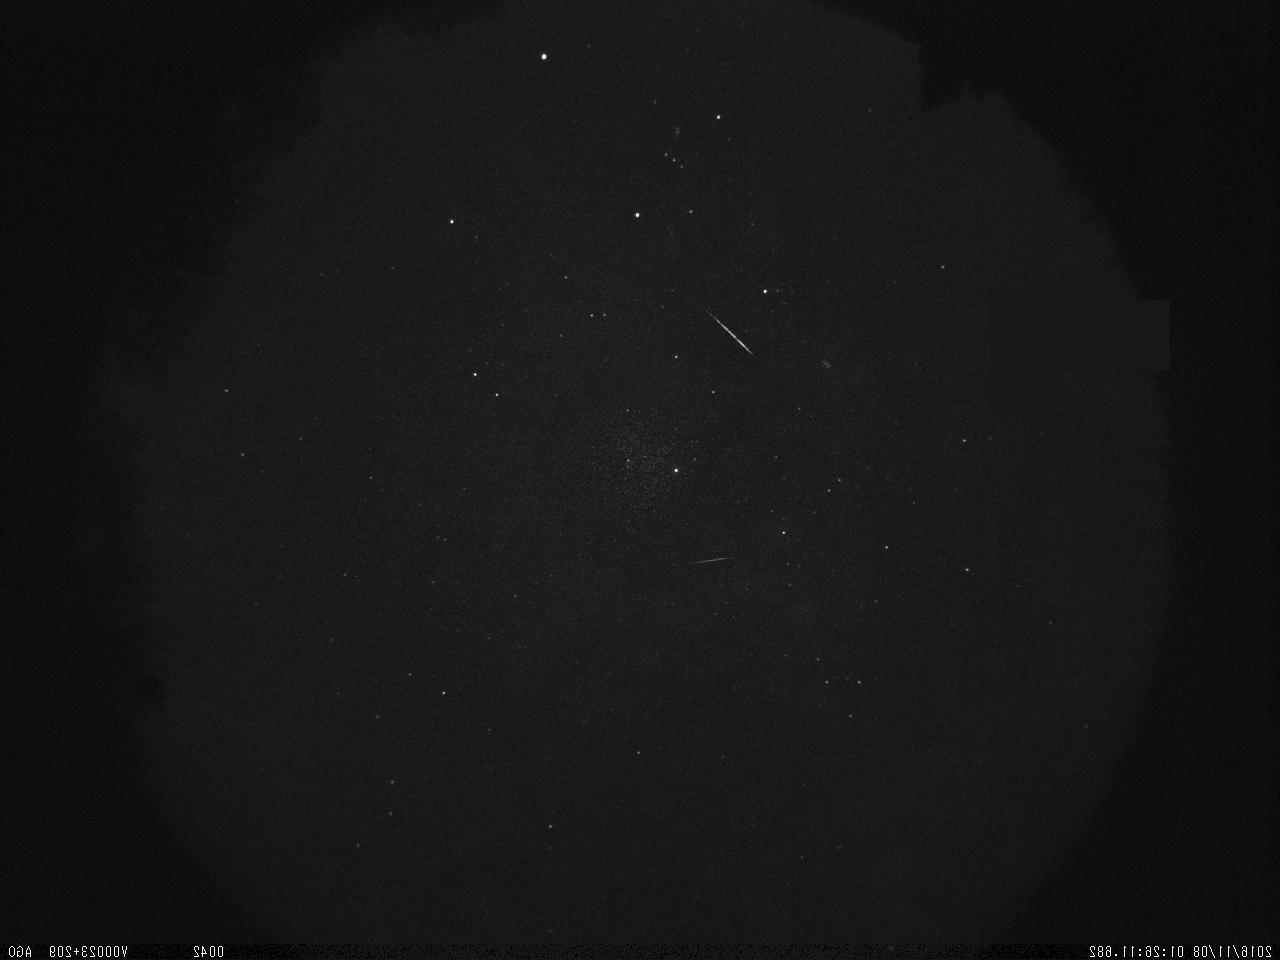meteor: (696, 301, 758, 363), (686, 543, 739, 574)
